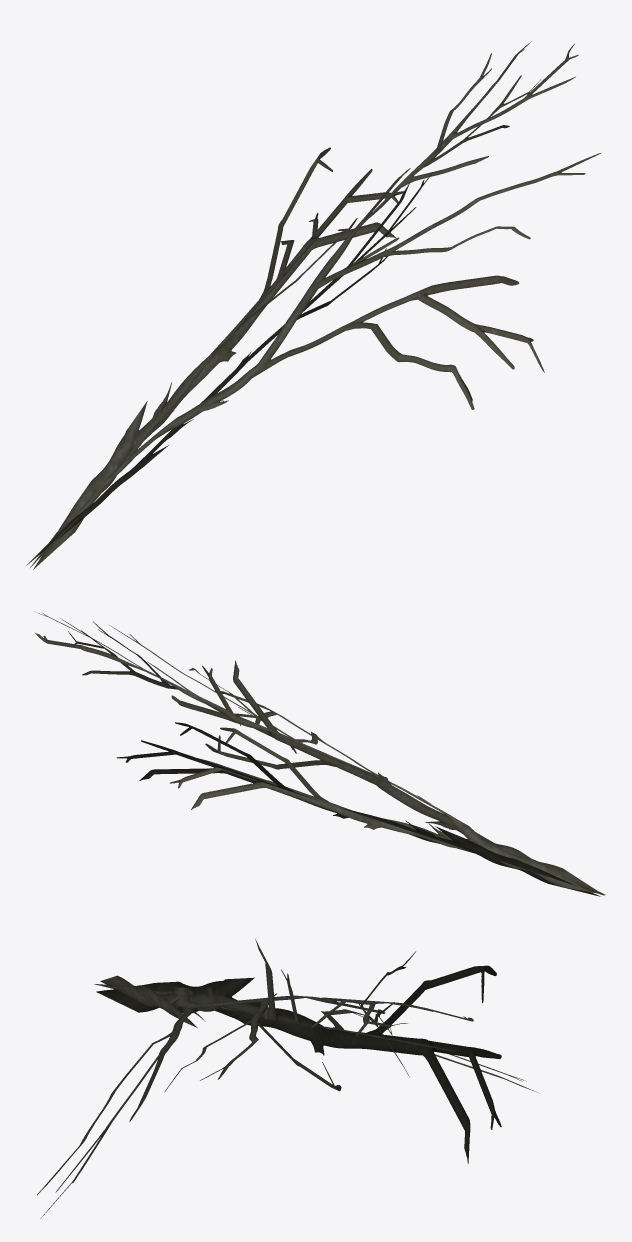
File: FO_UnderBrush_01_Part_01_b_1S.fbx
3 views of the same model, one above another, from view 1: azimuth 30°, elevation 25°; view 2: azimuth 150°, elevation 25°; view 3: azimuth 270°, elevation 25° (orthographic). The views are drawn at different scales.
Visible parts, largest first — view 1: FO_UnderBrush_01_Part_01_b_1S; view 2: FO_UnderBrush_01_Part_01_b_1S; view 3: FO_UnderBrush_01_Part_01_b_1S.
Part boxes in pixels (x1,y1,x2,y2): FO_UnderBrush_01_Part_01_b_1S: [26, 41, 600, 569]; FO_UnderBrush_01_Part_01_b_1S: [35, 612, 605, 896]; FO_UnderBrush_01_Part_01_b_1S: [37, 939, 539, 1218].
Size of the model in its own units: 2.91 by 1.29 by 1.41.
